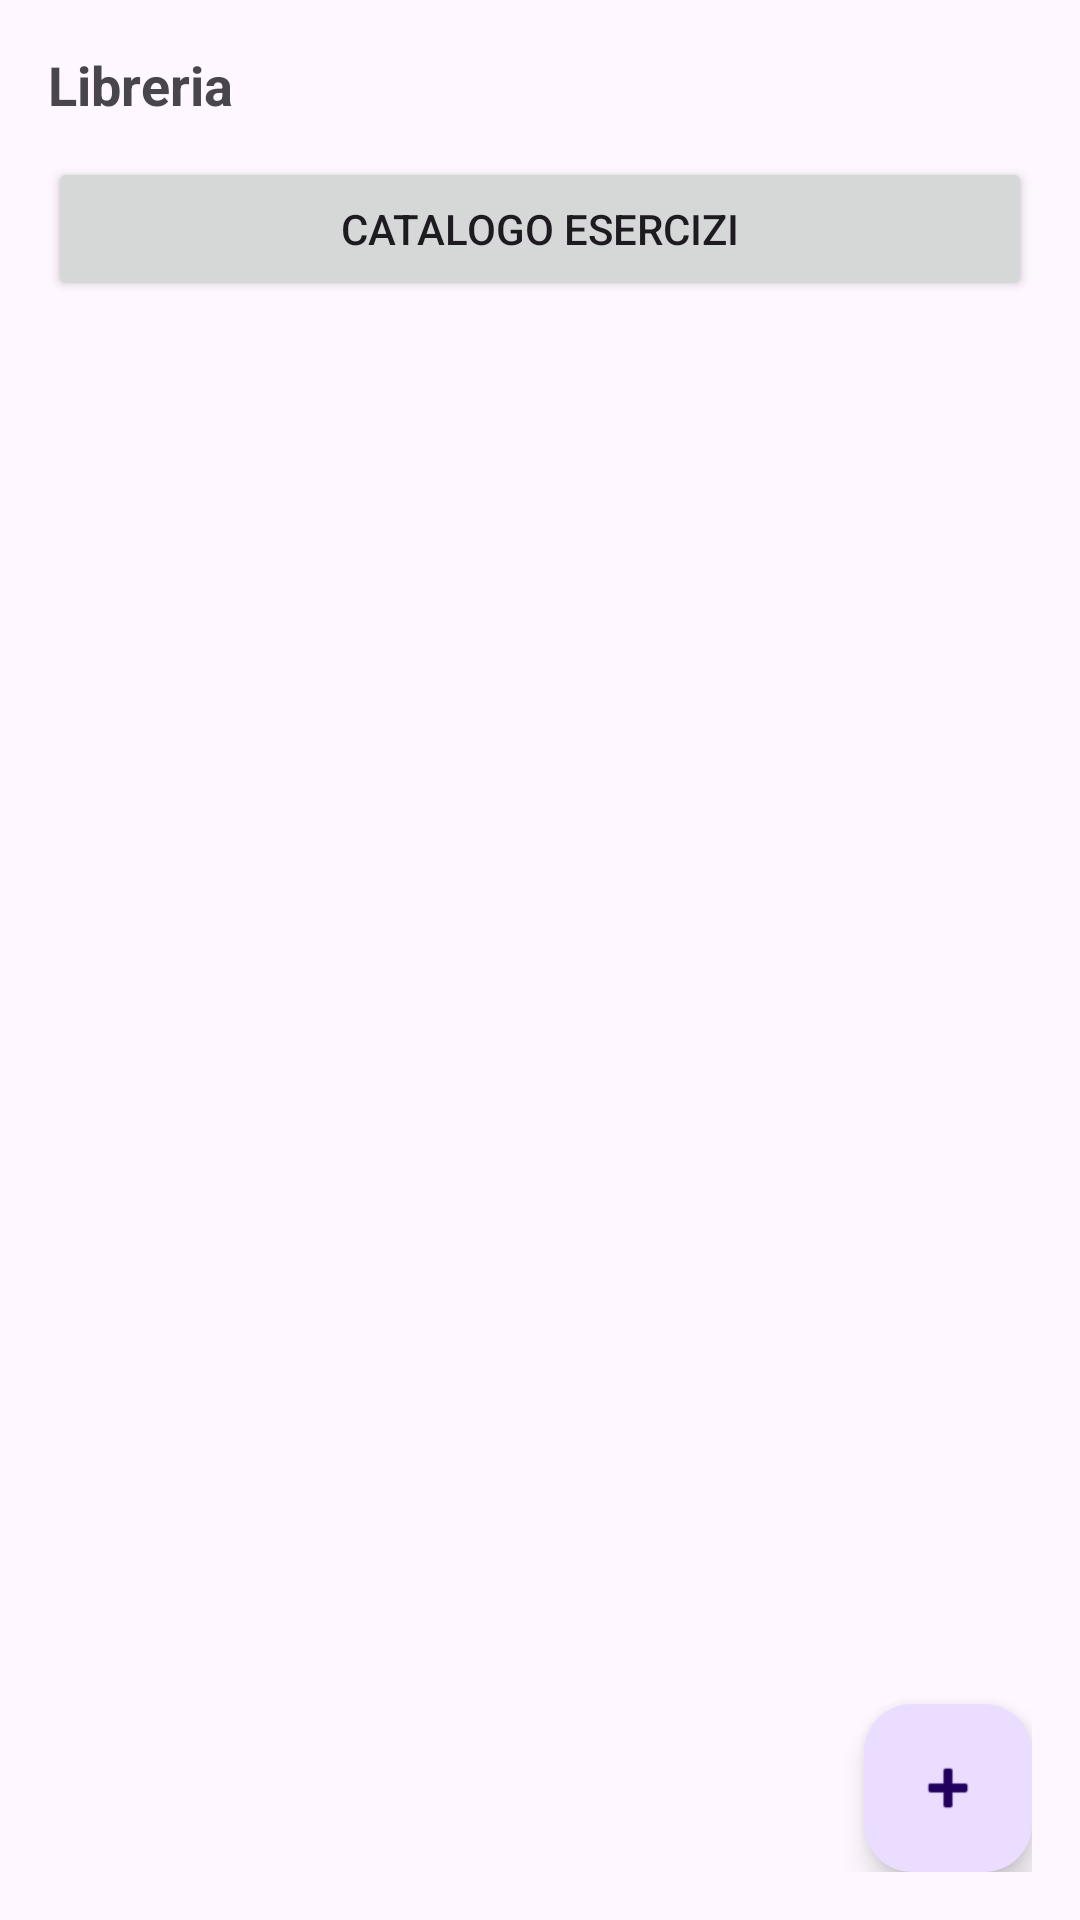

Locate icon controls on the screen. Image size 1080x1920, boxes as [x1,y1,x2,y2].
Aggiungi: [864,1704,1032,1872]
